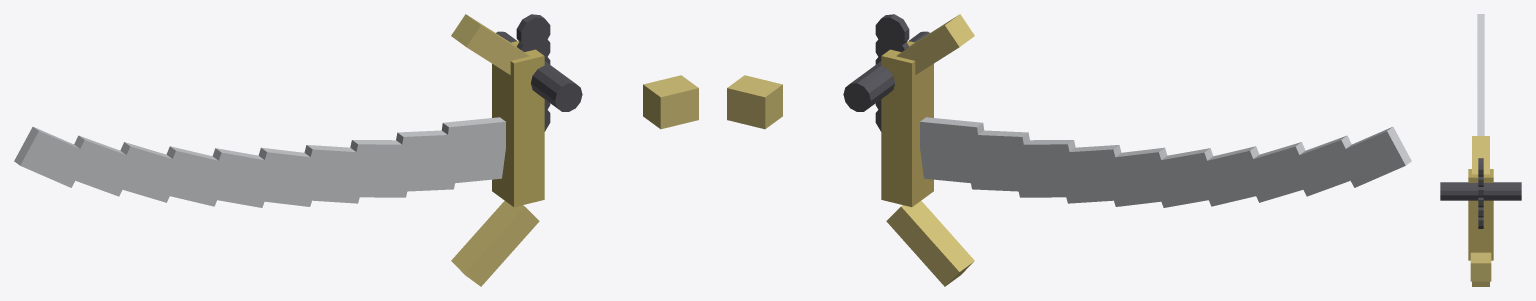
The model's file is gumus_buyuk_kilic.glb.
3 renders of one model, left to right at view 1: azimuth 30°, elevation 25°; view 2: azimuth 150°, elevation 25°; view 3: azimuth 270°, elevation 25°, orthographic. The views are drawn at different scales.
Parts seen in each view (by area): view 1: geometry_0; view 2: geometry_0; view 3: geometry_0.
Boxes of the visible parts, left/top/right/bottom form: geometry_0: left=14, top=14, right=698, bottom=286; geometry_0: left=727, top=14, right=1411, bottom=286; geometry_0: left=1440, top=14, right=1521, bottom=286.
Bounding box in the file's own units: 0.8808 × 0.3273 × 0.16.
